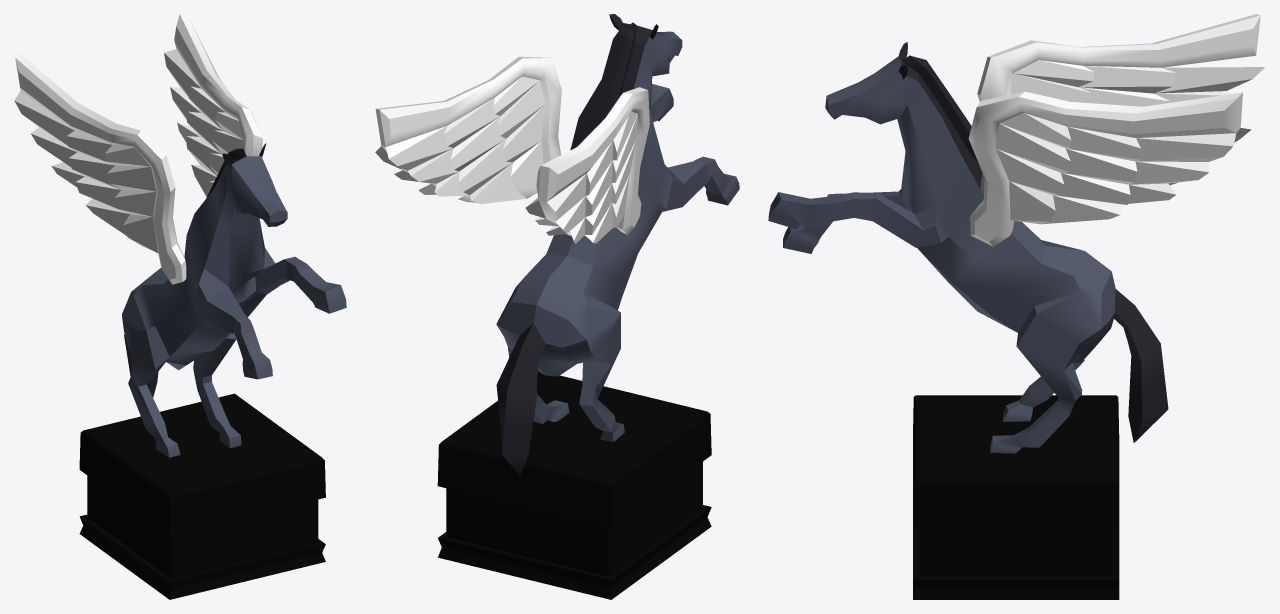
The model's file is pegasus.fbx.
3 views of the same model, side by side, from view 1: azimuth 30°, elevation 25°; view 2: azimuth 150°, elevation 25°; view 3: azimuth 270°, elevation 25° (orthographic). The views are drawn at different scales.
Parts seen in each view (by area): view 1: model1:pegasus; view 2: model1:pegasus; view 3: model1:pegasus.
Part boxes in pixels (bbox=[...]): model1:pegasus: bbox=[14, 14, 346, 599]; model1:pegasus: bbox=[375, 14, 739, 599]; model1:pegasus: bbox=[768, 14, 1264, 599].
Size of the model in its own units: 190 by 472 by 420.
Materials: 3 (2 with a texture image).
